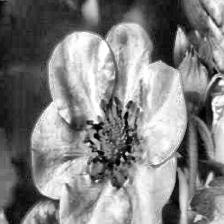Blossom Blight: (77, 95, 146, 188)
